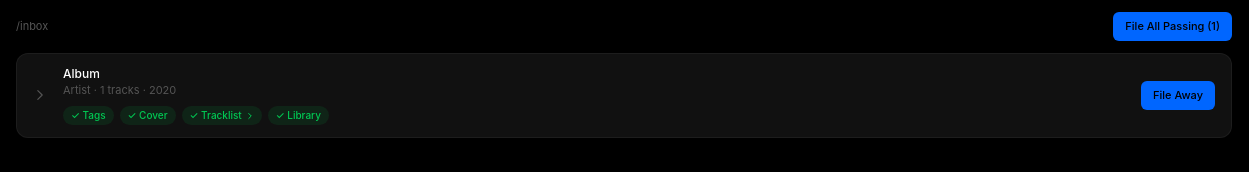
InboxView › files an album away and removes it from the list
Click the button "File Away": (1178, 95) [1141,81,1215,110]
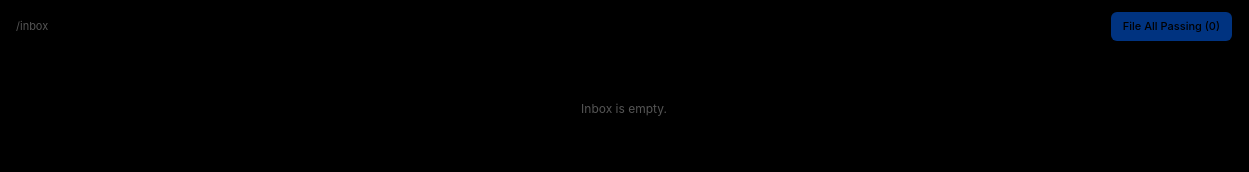
Now the text "Album" is gone
